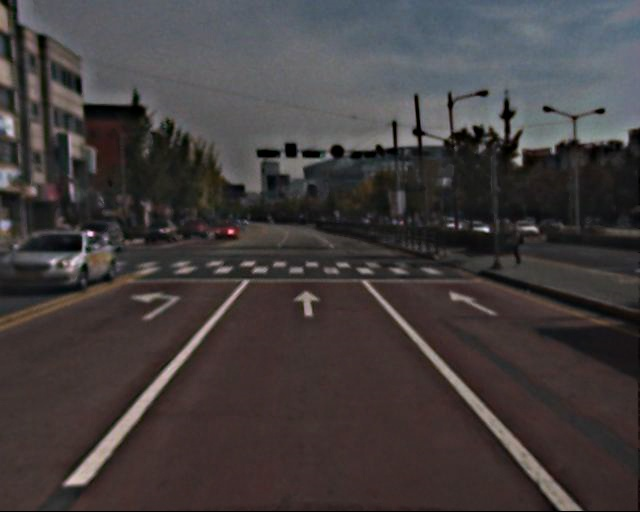person: (502, 215, 527, 275)
